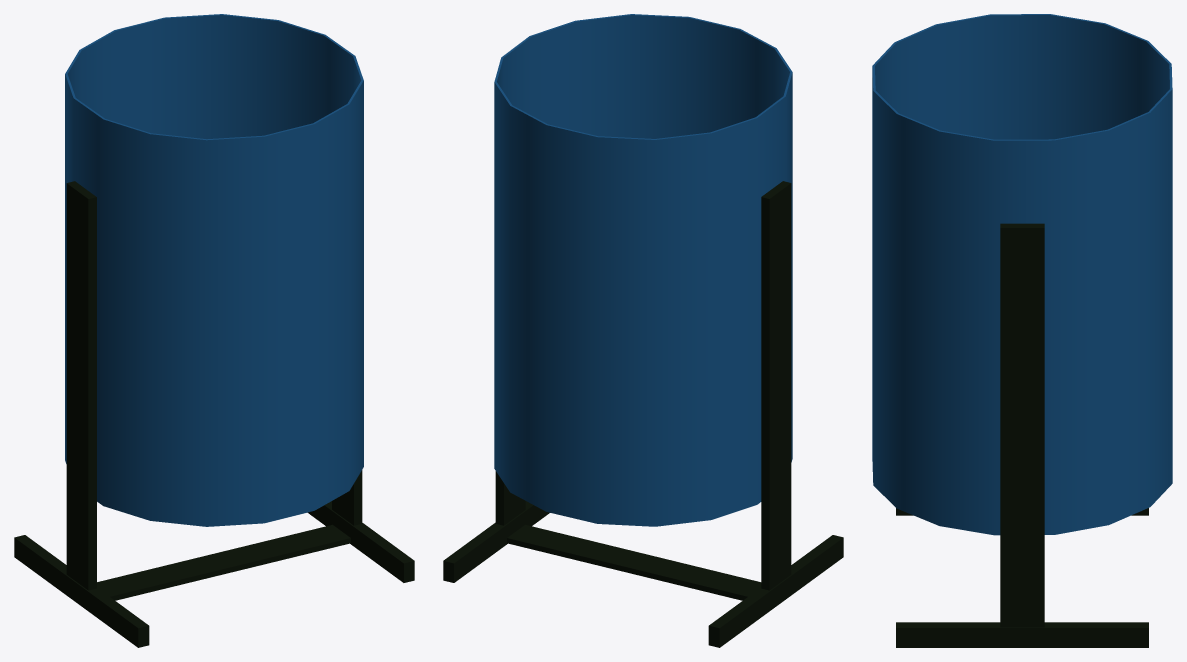
Rendered from Prop_CTPTrashCan_02.fbx.
3 renders of one model, left to right at view 1: azimuth 30°, elevation 25°; view 2: azimuth 150°, elevation 25°; view 3: azimuth 270°, elevation 25°, orthographic. The views are drawn at different scales.
Visible parts, largest first — view 1: Prop_CTPTrashCan_02; view 2: Prop_CTPTrashCan_02; view 3: Prop_CTPTrashCan_02.
Boxes of the visible parts, bbox=[...] form: Prop_CTPTrashCan_02: bbox=[14, 14, 414, 647]; Prop_CTPTrashCan_02: bbox=[443, 14, 843, 647]; Prop_CTPTrashCan_02: bbox=[872, 14, 1172, 647].
Size of the model in its own units: 79.16 by 135 by 72.93.
